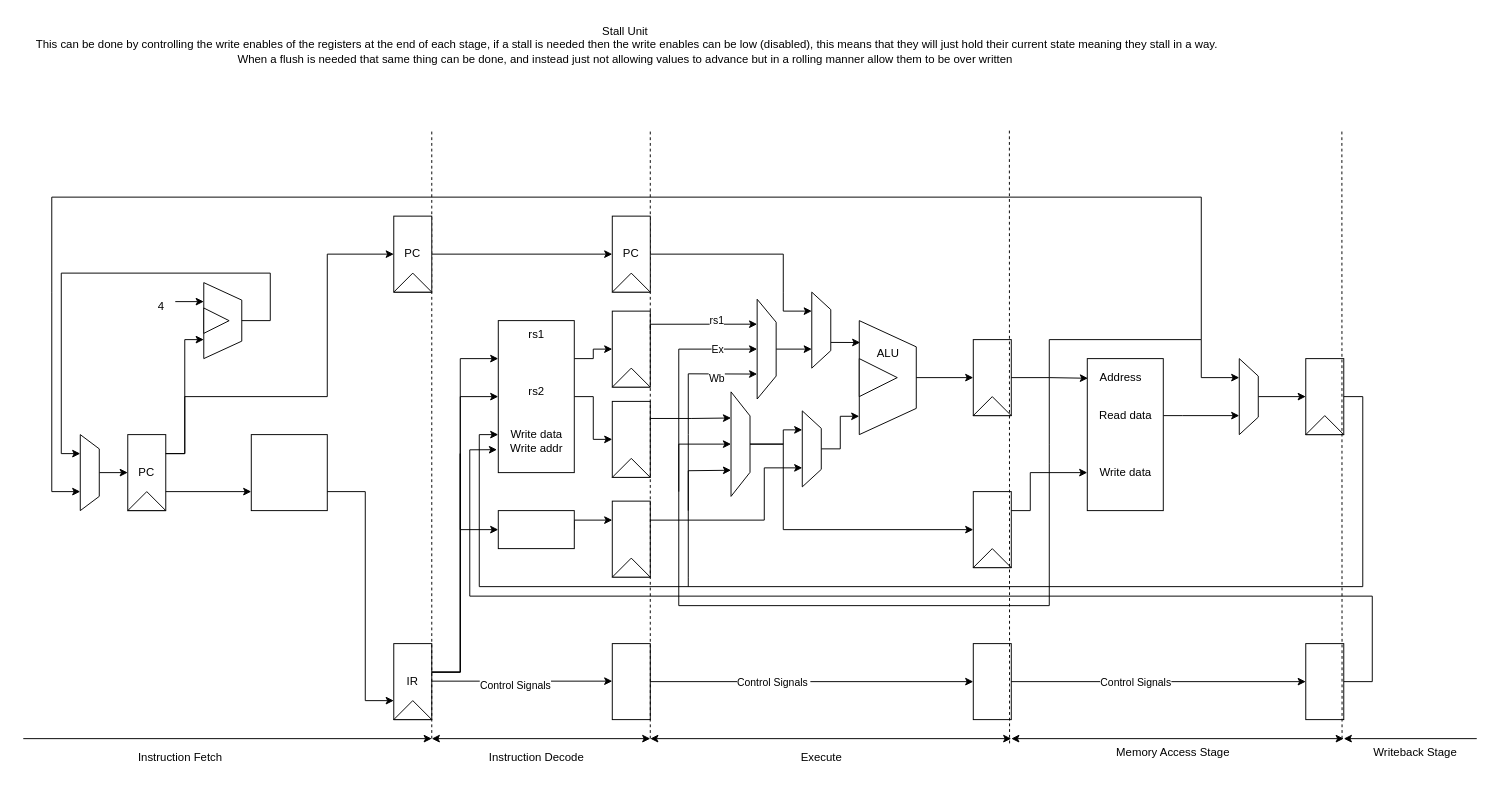
This 1501x788 diagram has some shape labels left out. The shapes that lost their labels are listed below. From the top down, each one's centre as x and y in pixels, then its label:
At point (288, 472): "Instruction Memory".
At point (535, 529): "Immediate/ Sign Extender".
